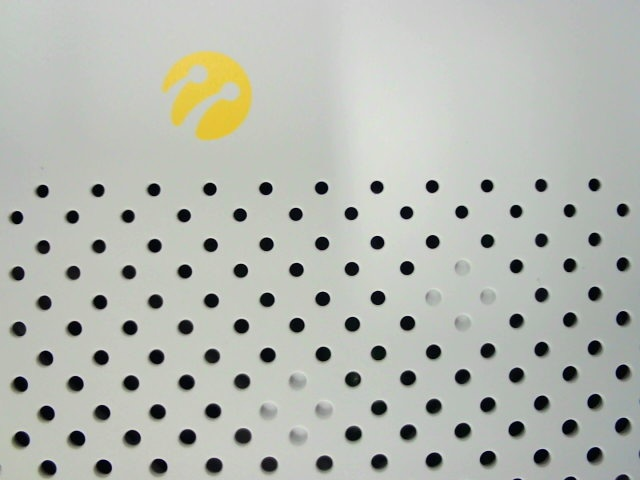AV_H3600Yellow: (146, 44, 263, 148)
